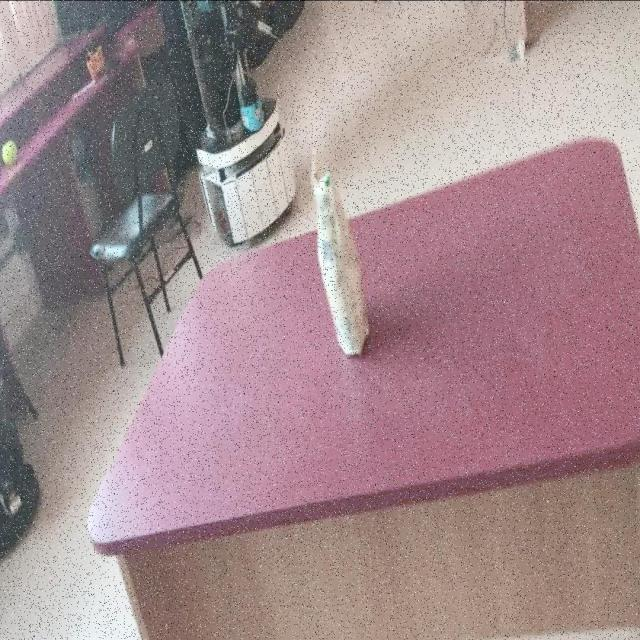CornFlakes: (309, 149, 370, 359)
